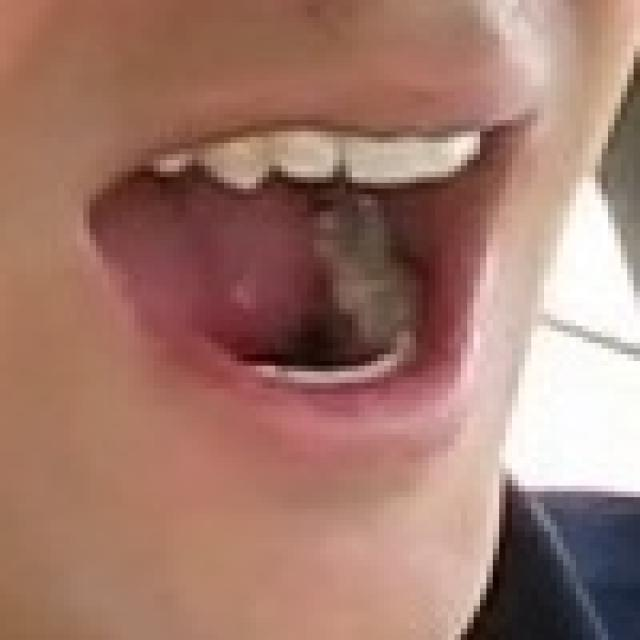open-mouth: (76, 102, 538, 412)
